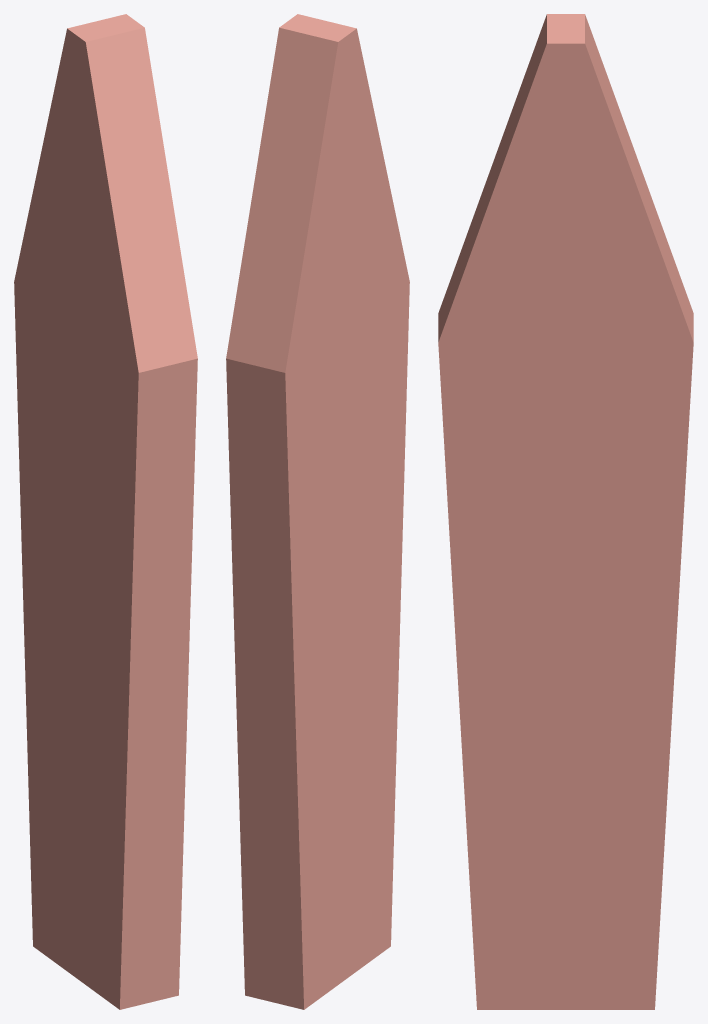
Rendered from copper-sword-edge.fbx.
The picture shows the model from 3 angles, left to right: view 1: azimuth 30°, elevation 25°; view 2: azimuth 150°, elevation 25°; view 3: azimuth 270°, elevation 25°; orthographic projection. The views are drawn at different scales.
Parts seen in each view (by area): view 1: sword; view 2: sword; view 3: sword.
Boxes of the visible parts, <box> form: sword: <box>14,14,197,1009</box>; sword: <box>226,14,409,1009</box>; sword: <box>438,14,693,1009</box>.
Size of the model in its own units: 11.99 by 183 by 43.76.
